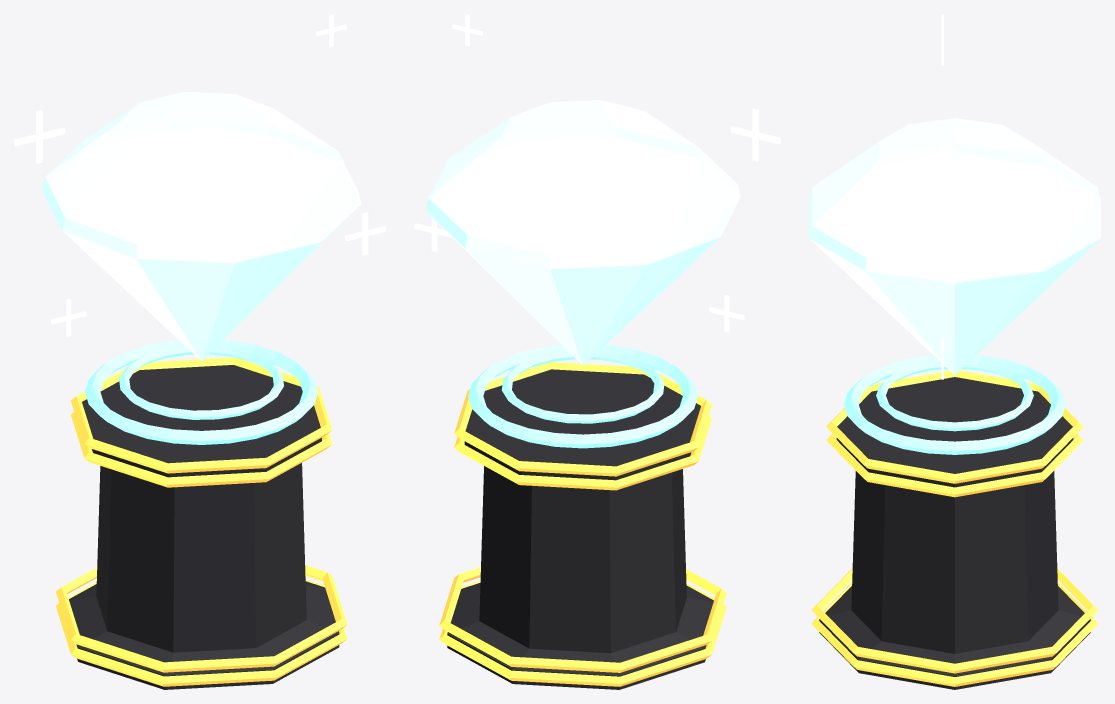
The model's file is lux_diamond_statue.glb.
3 renders of one model, left to right at view 1: azimuth 30°, elevation 25°; view 2: azimuth 150°, elevation 25°; view 3: azimuth 270°, elevation 25°, orthographic. The views are drawn at different scales.
Visible parts, largest first — view 1: lux_diamond_statue; view 2: lux_diamond_statue; view 3: lux_diamond_statue.
Boxes of the visible parts, left/top/right/bottom form: lux_diamond_statue: left=14, top=14, right=385, bottom=689; lux_diamond_statue: left=414, top=14, right=780, bottom=689; lux_diamond_statue: left=809, top=14, right=1100, bottom=689.
Size of the model in its own units: 1.65 by 2.52 by 1.18.
